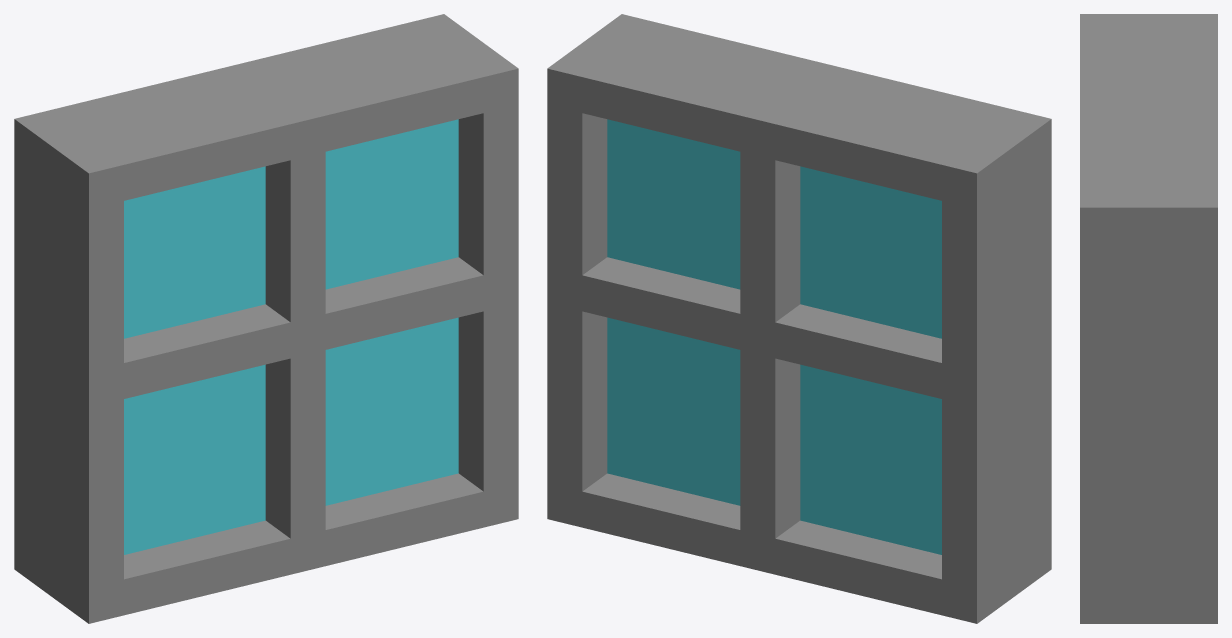
The model's file is Medium Window.fbx.
3 renders of one model, left to right at view 1: azimuth 30°, elevation 25°; view 2: azimuth 150°, elevation 25°; view 3: azimuth 270°, elevation 25°, orthographic. The views are drawn at different scales.
Visible parts, largest first — view 1: Medium Window; view 2: Medium Window; view 3: Medium Window.
Boxes of the visible parts, bbox=[...] form: Medium Window: bbox=[14, 14, 518, 623]; Medium Window: bbox=[547, 14, 1051, 623]; Medium Window: bbox=[1080, 14, 1217, 623].
Bounding box in the file's own units: 0.9997 × 1 × 0.3003.
